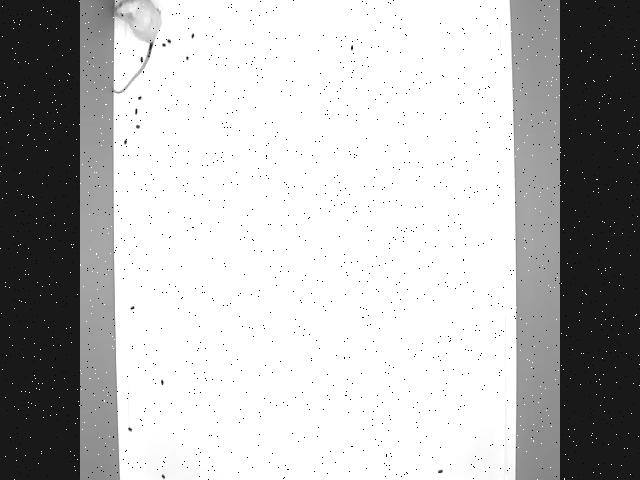Tikus: (106, 0, 166, 96)
